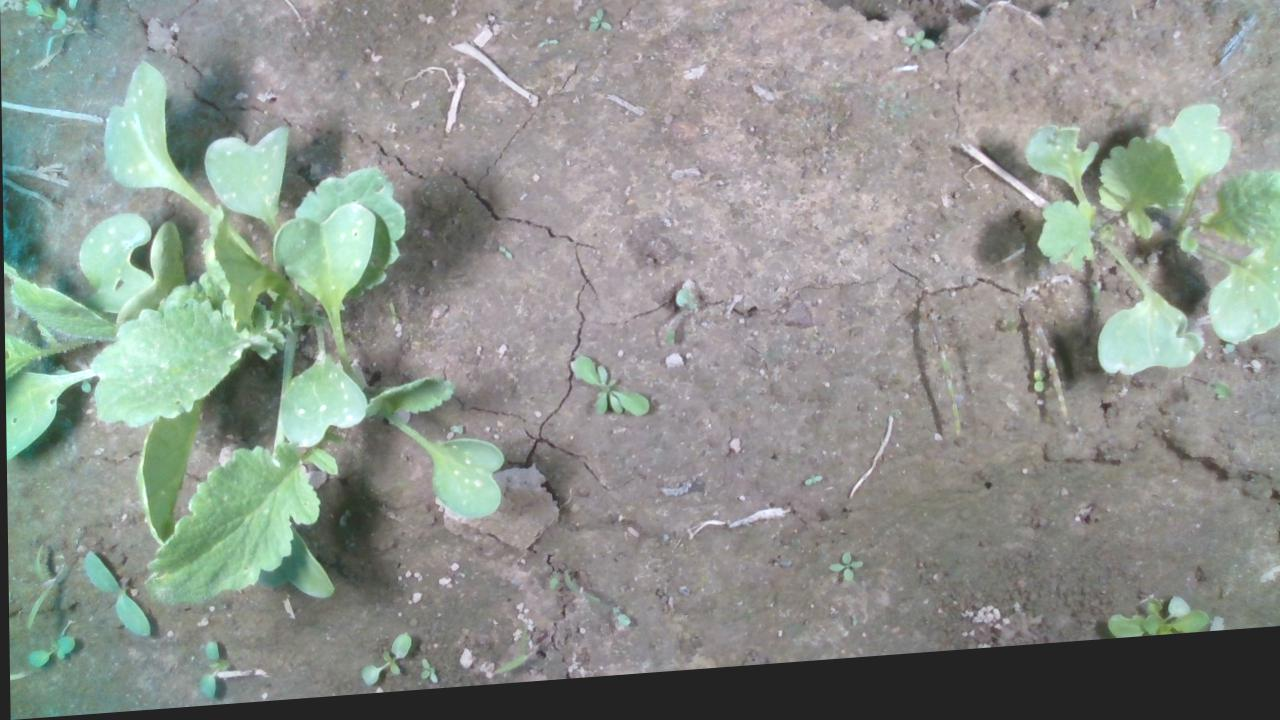weed: (568, 358, 648, 428), (356, 638, 410, 693), (22, 634, 73, 668), (195, 641, 221, 703), (895, 39, 938, 71), (825, 560, 861, 594), (585, 14, 613, 40), (417, 662, 436, 691), (1029, 382, 1045, 408), (800, 486, 821, 500)
